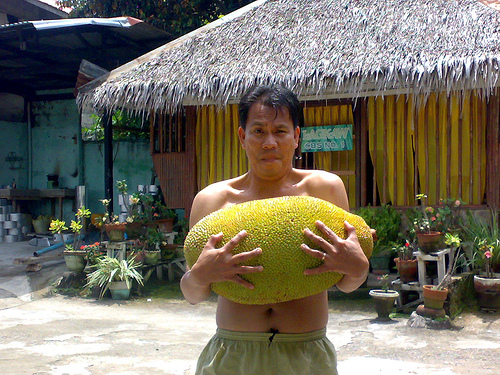jackfruit: (181, 194, 375, 305)
